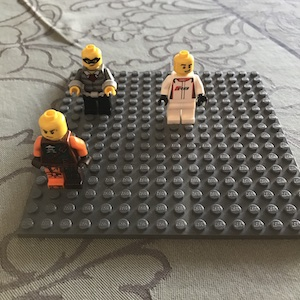Lego: (29, 108, 93, 188), (66, 42, 118, 118), (156, 48, 205, 128)
